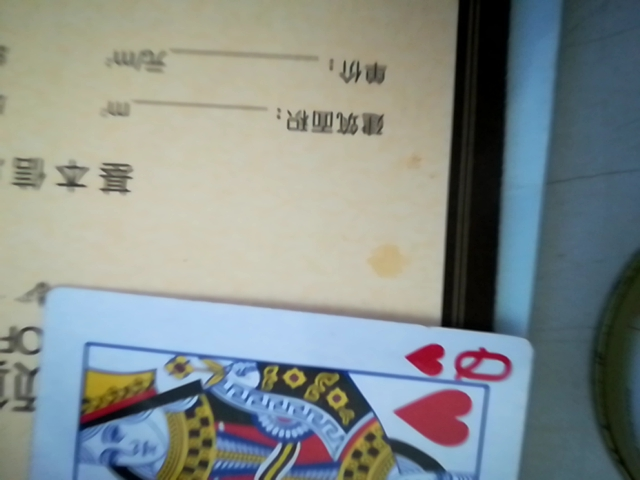hx q: (15, 283, 540, 480)
